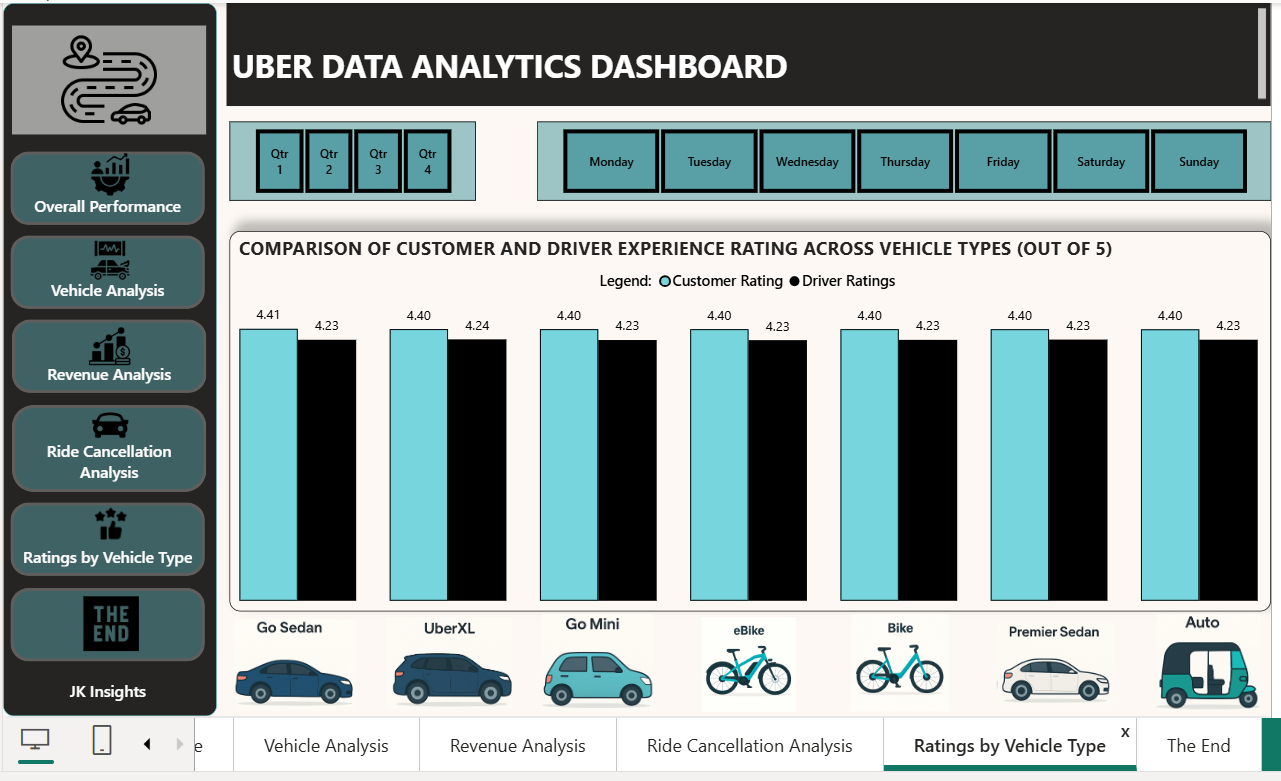

The dashboard page shown, as its layout file describes it:
{"tool":"powerbi","page":{"name":"Ratings by Vehicle Type","canvas":[1280,720],"ordinal":5},"visuals":[{"type":"textbox","box":[0,0,215.7,720],"z":0,"group":"g1"},{"type":"clusteredColumnChart","title":"COMPARISON OF CUSTOMER AND DRIVER EXPERIENCE RATING ACROSS VEHICLE TYPES (OUT OF 5)","fields":{"Y":["Avg(ncr_ride_bookings.Customer Rating)","Avg(ncr_ride_bookings.Driver Ratings)"],"Category":["ncr_ride_bookings.Vehicle Type"]},"box":[228.6,230,1051.4,384.3],"z":0},{"type":"actionButton","box":[8.2,149.3,196.2,74.1],"z":1000,"group":"g1"},{"type":"image","box":[1154.3,611.4,125.7,108.6],"z":1000},{"type":"image","box":[9.6,23.3,196.2,109.8],"z":2000,"group":"g1"},{"type":"image","box":[539.3,612,122.1,108.4],"z":2000},{"type":"image","box":[997.6,613.4,129,107],"z":3000},{"type":"textbox","box":[61.7,677.9,87.8,32.9],"z":3000,"group":"g1"},{"type":"actionButton","box":[8.2,234.4,196.2,74.1],"z":4000,"group":"g1"},{"type":"image","box":[381.4,611.4,137.1,108.6],"z":4000},{"type":"actionButton","box":[9.6,319.4,196.2,74.1],"z":5000,"group":"g1"},{"type":"image","box":[229.2,614.8,133.1,105.7],"z":5000},{"type":"textbox","box":[225.7,0,1054.3,104.3],"z":6000},{"type":"actionButton","box":[9.6,406.2,196.2,87.8],"z":6000,"group":"g1"},{"type":"actionButton","box":[8.2,590.1,196.2,74.1],"z":7000,"group":"g1"},{"type":"image","box":[847.1,611.4,118.6,108.6],"z":7000},{"type":"image","box":[48,145.5,119.4,54.9],"z":8000,"group":"g1"},{"type":"image","box":[671.4,614.3,164.3,105.7],"z":8000},{"type":"slicer","fields":{"Values":["ncr_ride_bookings.Date.Variation.Date Hierarchy.Quarter"]},"box":[228.6,120,248.6,80],"z":9000},{"type":"actionButton","box":[8.2,505,196.2,74.1],"z":9000,"group":"g1"},{"type":"slicer","fields":{"Values":["ncr_ride_bookings.Booking Day"]},"box":[538.6,120,741.4,80],"z":10000},{"type":"image","box":[46.7,234.6,122.1,49.4],"z":10000,"group":"g1"},{"type":"group","id":"g1","title":"Group 1","box":[0,0,215.7,720],"z":11000},{"type":"image","box":[78.2,319.7,57.6,53.5],"z":11000,"group":"g1"},{"type":"image","box":[67.2,403.4,83.7,46.7],"z":12000,"group":"g1"},{"type":"image","box":[61.7,505,93.3,42.5],"z":13000,"group":"g1"},{"type":"image","box":[71.4,594.2,75.5,65.9],"z":14000,"group":"g1"}]}

Visuals, with their boxes on the page's 1280x720 design canvas (x1, y1, x2, y2). These are canvas units, not pixel positions in the 1281x781 screenshot, which may show the page scaled, cropped or inside an application window:
textbox: 0, 0, 216, 720
"COMPARISON OF CUSTOMER AND DRIVER EXPERIENCE RATING ACROSS VEHICLE TYPES (OUT OF 5)" clusteredColumnChart: 229, 230, 1280, 614
actionButton: 8, 149, 204, 223
image: 1154, 611, 1280, 720
image: 10, 23, 206, 133
image: 539, 612, 661, 720
image: 998, 613, 1127, 720
textbox: 62, 678, 150, 711
actionButton: 8, 234, 204, 308
image: 381, 611, 518, 720
actionButton: 10, 319, 206, 394
image: 229, 615, 362, 720
textbox: 226, 0, 1280, 104
actionButton: 10, 406, 206, 494
actionButton: 8, 590, 204, 664
image: 847, 611, 966, 720
image: 48, 146, 167, 200
image: 671, 614, 836, 720
slicer - ncr_ride_bookings.Date.Variation.Date Hierarchy.Quarter: 229, 120, 477, 200
actionButton: 8, 505, 204, 579
slicer - ncr_ride_bookings.Booking Day: 539, 120, 1280, 200
image: 47, 235, 169, 284
"Group 1" group: 0, 0, 216, 720
image: 78, 320, 136, 373
image: 67, 403, 151, 450
image: 62, 505, 155, 548
image: 71, 594, 147, 660
